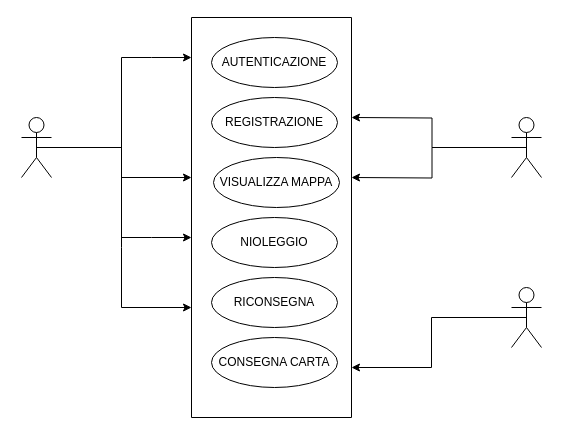
Some shapes in this 586 by 436 pixel diagram are drawn without their labels. The centre of each missing label's shape, as x and y in pixels:
comune: the point at 526,317
utente: the point at 36,147
visualizzatore: the point at 526,147
